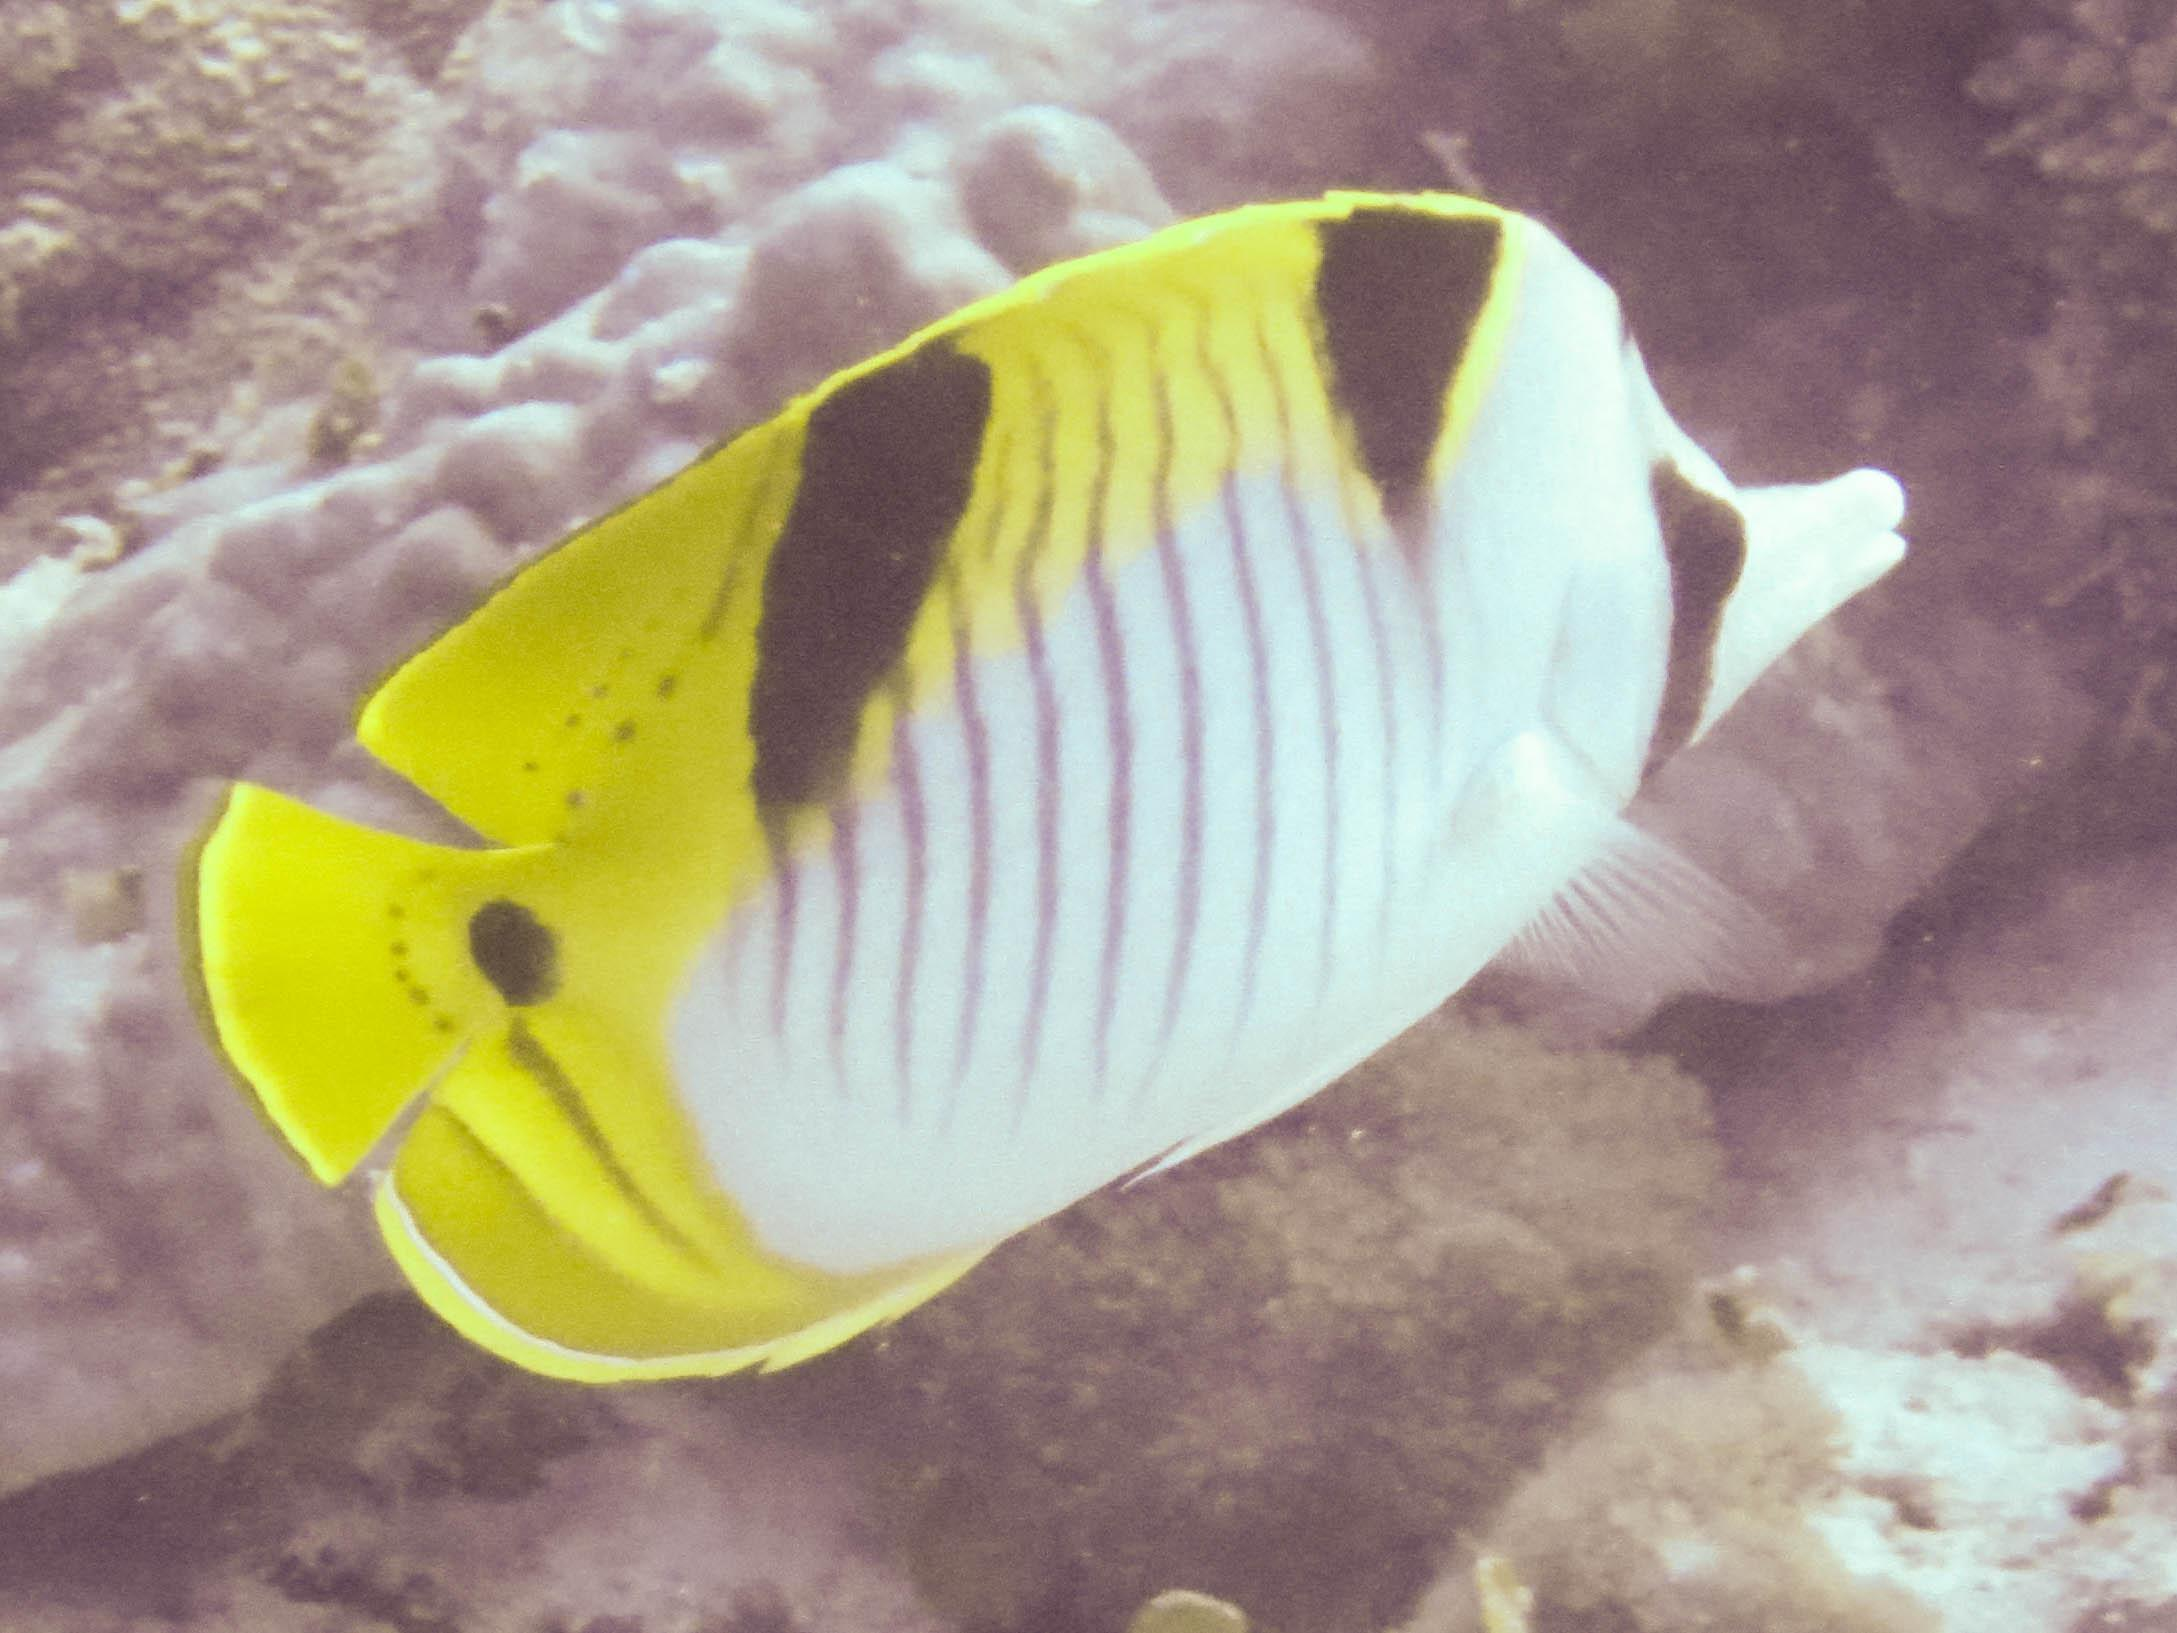Fish: (146, 165, 1964, 1446)
